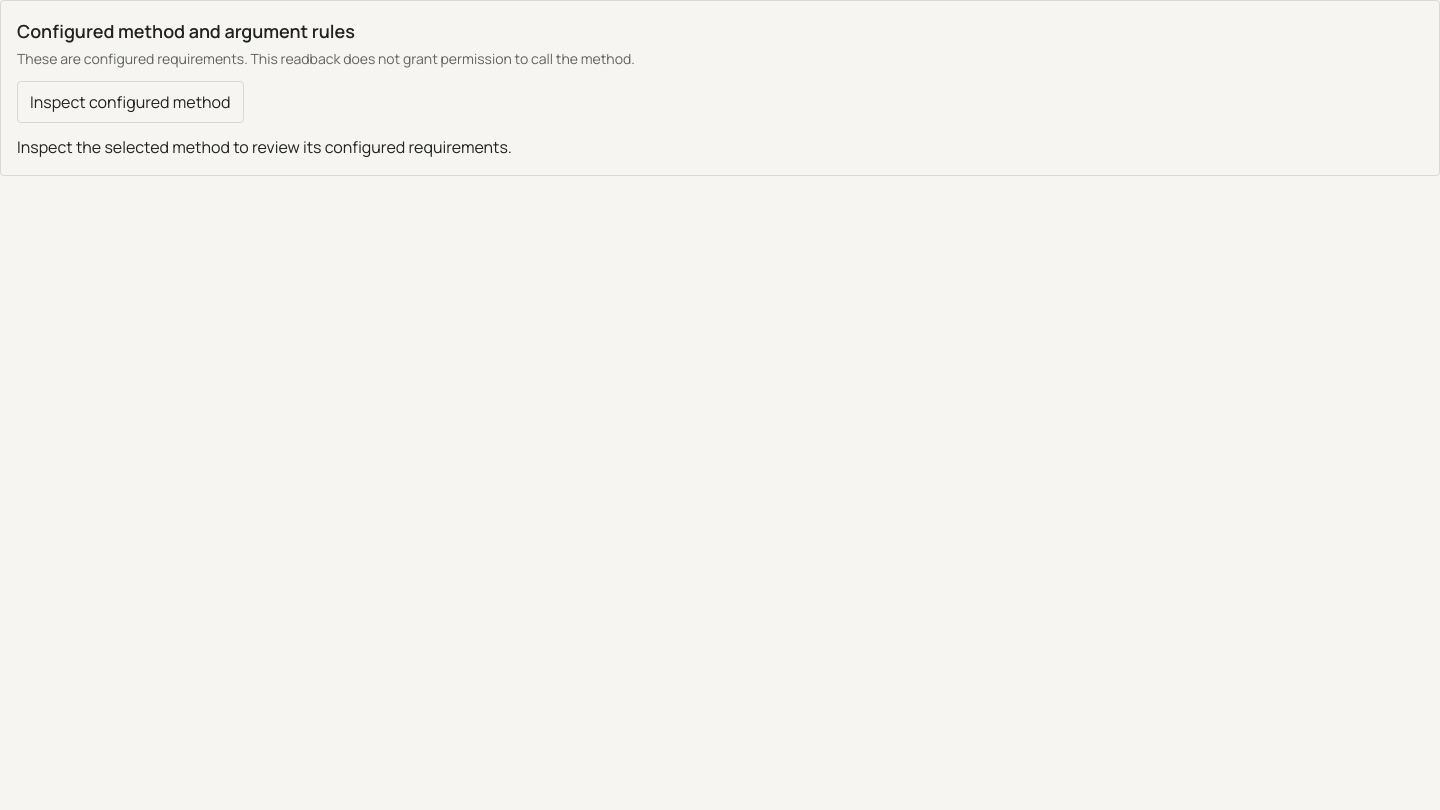
allows a fresh read after leaving and returning to a loading selection
Earlier steps of the test are not shown.
expect the text "115792089237316195423570985008687907853269984665640564039457584007913129639935" is not shown: met
Click the button at [130, 102], box [17,81,244,123]
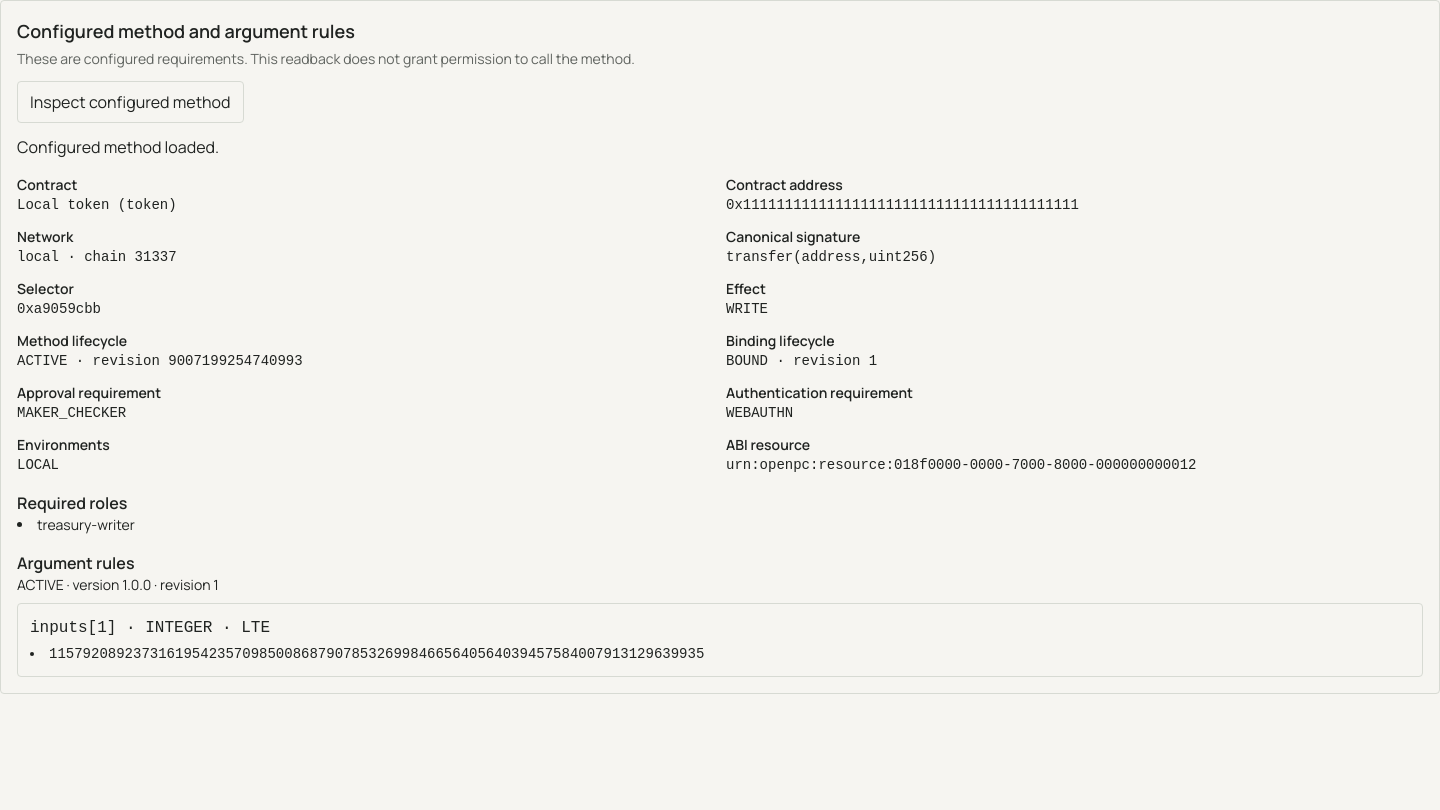
expect the list item "115792089237316195423570985008687907853269984665640564039457584007913129639935" is shown: met, box [49,646,704,662]
